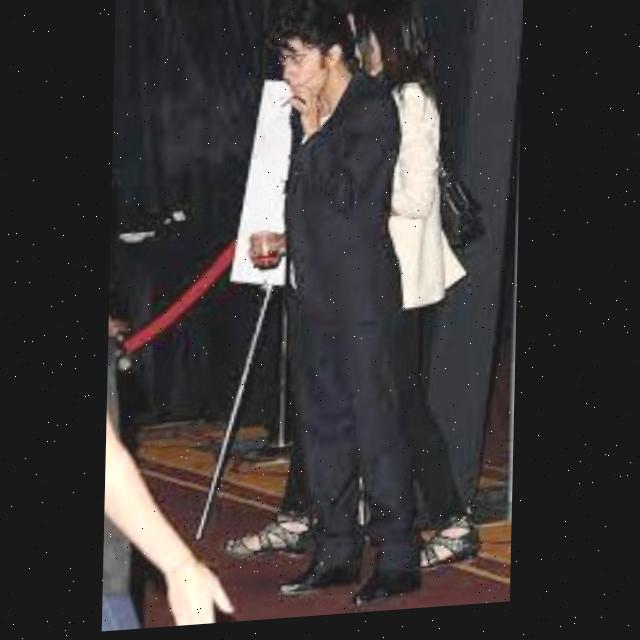cigarette: (279, 98, 292, 111)
